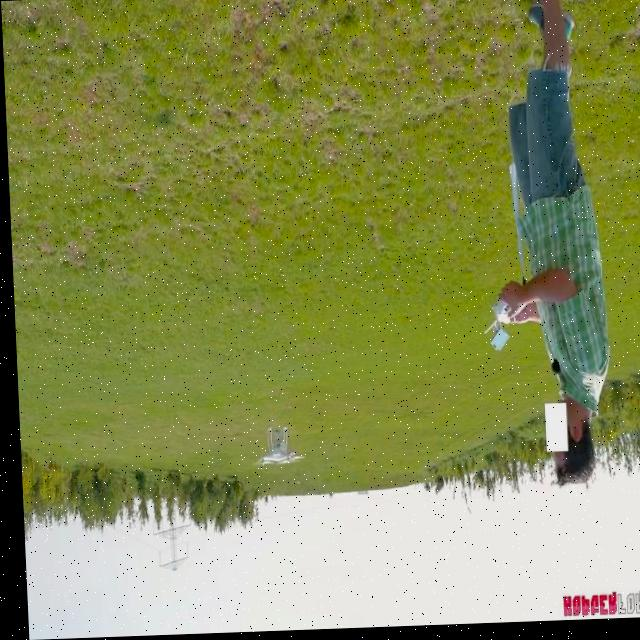drone: (249, 426, 299, 475)
